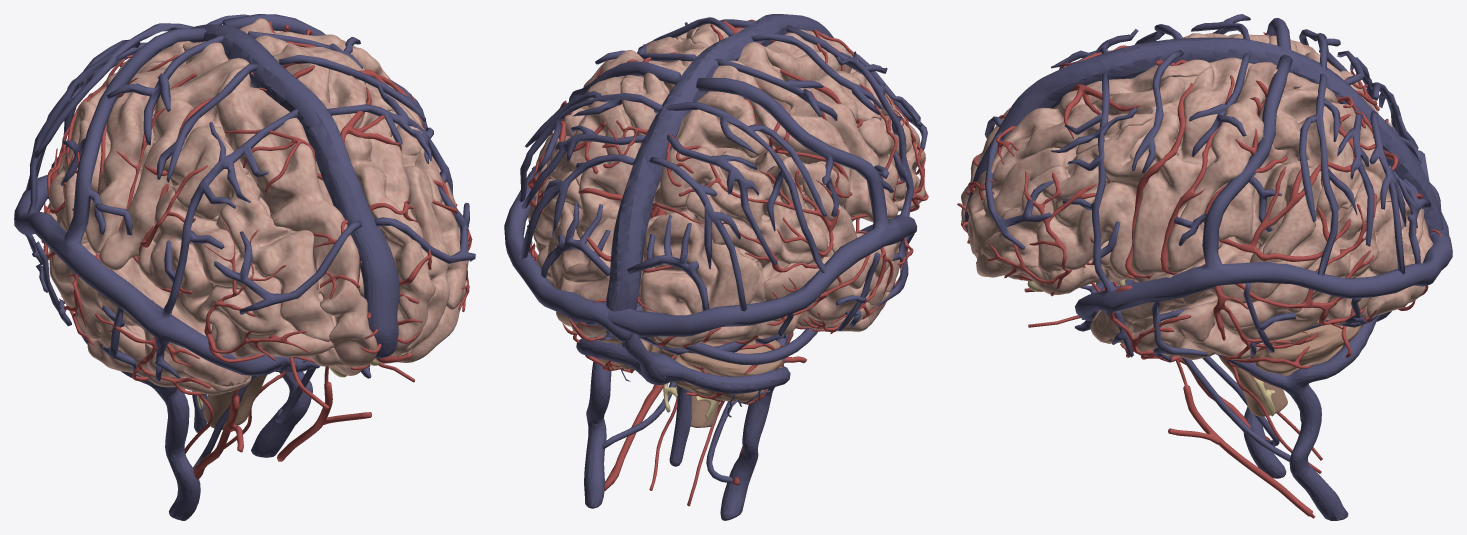
Rendered from brain.glb.
3 views of the same model, side by side, from view 1: azimuth 30°, elevation 25°; view 2: azimuth 150°, elevation 25°; view 3: azimuth 270°, elevation 25° (orthographic). The views are drawn at different scales.
Visible parts, largest first — view 1: Dural sinus _inferior_petrosal_sinus_right, Right lobe_right_superior_frontal_gyrus, Right lobe_right_inferior_gyrus1_1, Right lobe_right_middle__frontal_gyrus, Dural sinus _internal_jugular_vien, Dural sinus _superior_anastomotic_vien_, Arteries_right_lobe_arteries, Left lobe_left_middle_frontal_gyrus, Left lobe_left_superior_frontal_gyrus, Dural sinus _inferior_petrosal_sinus_left, Right lobe_right_postcentral_gyrus, Right lobe_right_precentral_gyrus (+18 smaller); view 2: Dural sinus _inferior_petrosal_sinus_right, Dural sinus _internal_jugular_vien, Dural sinus _superior_anastomotic_vien_, Dural sinus _parietal_vien_right, Right lobe_right_occipital_lobe, Dural sinus _parietal_vien_left, Arteries_right_lobe_arteries, Left lobe_left_superior_parietal_lobule, Dural sinus _inferior_petrosal_sinus_left, Right lobe_right_angular_gyrus, Right lobe_right_superior_parietal_lobule, Left lobe_left_occipital_lobe (+19 smaller); view 3: Dural sinus _inferior_petrosal_sinus_left, Arteries_left_lobe_arteries, Left lobe_left_inferior_frontal_gyrus, Dural sinus _superior_anastomotic_vien_, Dural sinus _internal_jugular_vien, Left lobe_left_middle_frontal_gyrus, Left lobe_left_precentral_gyrus, Dural sinus _parietal_vien_left, Left lobe_left_postcentral_gyrus, Left lobe_left_middle_temporal_gyrus, Left lobe_left_superior_parietal_lobule, Left lobe_left_supramarginal_gyrus (+15 smaller).
Part boxes in pixels (<box>): Dural sinus _inferior_petrosal_sinus_right: <box>14,27,362,381</box>; Right lobe_right_superior_frontal_gyrus: <box>216,68,377,367</box>; Right lobe_right_inferior_gyrus1_1: <box>138,189,333,358</box>; Right lobe_right_middle__frontal_gyrus: <box>163,114,334,341</box>; Dural sinus _internal_jugular_vien: <box>77,24,399,520</box>; Dural sinus _superior_anastomotic_vien_: <box>76,24,399,520</box>; Arteries_right_lobe_arteries: <box>41,55,381,395</box>; Left lobe_left_middle_frontal_gyrus: <box>328,69,449,353</box>; Left lobe_left_superior_frontal_gyrus: <box>274,43,435,356</box>; Dural sinus _inferior_petrosal_sinus_left: <box>222,14,475,263</box>; Right lobe_right_postcentral_gyrus: <box>85,41,228,253</box>; Right lobe_right_precentral_gyrus: <box>99,58,249,270</box>; Dural sinus _inferior_petrosal_sinus_right: <box>584,25,927,354</box>; Dural sinus _internal_jugular_vien: <box>576,14,833,520</box>; Dural sinus _superior_anastomotic_vien_: <box>576,14,833,519</box>; Dural sinus _parietal_vien_right: <box>627,102,833,311</box>; Right lobe_right_occipital_lobe: <box>638,211,759,347</box>; Dural sinus _parietal_vien_left: <box>518,91,662,277</box>; Arteries_right_lobe_arteries: <box>637,30,928,348</box>; Left lobe_left_superior_parietal_lobule: <box>551,72,667,232</box>; Dural sinus _inferior_petrosal_sinus_left: <box>504,17,754,342</box>; Right lobe_right_angular_gyrus: <box>685,151,827,269</box>; Right lobe_right_superior_parietal_lobule: <box>654,91,769,211</box>; Left lobe_left_occipital_lobe: <box>534,199,638,337</box>; Dural sinus _inferior_petrosal_sinus_left: <box>984,50,1452,361</box>; Arteries_left_lobe_arteries: <box>962,59,1441,362</box>; Left lobe_left_inferior_frontal_gyrus: <box>981,112,1182,289</box>; Dural sinus _superior_anastomotic_vien_: <box>964,37,1443,520</box>; Dural sinus _internal_jugular_vien: <box>964,37,1443,520</box>; Left lobe_left_middle_frontal_gyrus: <box>970,76,1184,257</box>; Left lobe_left_precentral_gyrus: <box>1131,57,1253,275</box>; Dural sinus _parietal_vien_left: <box>1299,73,1430,275</box>; Left lobe_left_postcentral_gyrus: <box>1166,62,1277,272</box>; Left lobe_left_middle_temporal_gyrus: <box>1119,172,1382,356</box>; Left lobe_left_superior_parietal_lobule: <box>1258,72,1391,208</box>; Left lobe_left_supramarginal_gyrus: <box>1204,160,1317,261</box>.
Bounding box in the file's own units: 1.77 × 2.16 × 2.13.
Materials: 6 (2 with a texture image).
